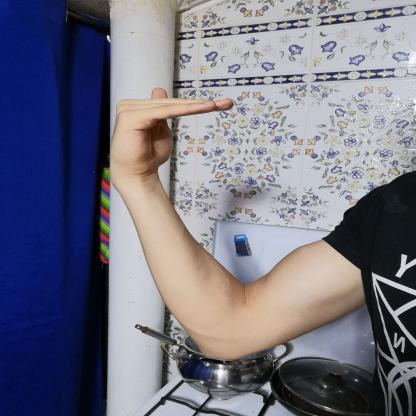KHAA: (93, 78, 244, 186)
